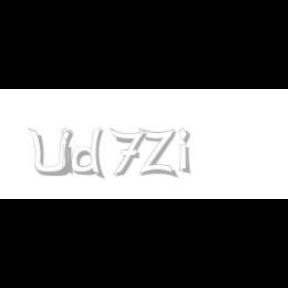7: (110, 128, 146, 178)
U: (28, 128, 72, 178)
Z: (138, 128, 176, 178)
d: (72, 128, 108, 180)
i: (61, 128, 77, 176), (178, 128, 194, 176)
